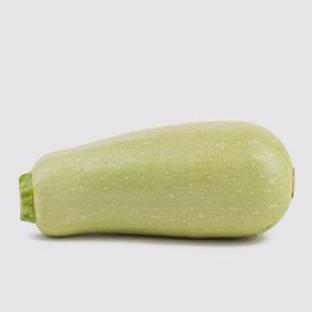Zucchini: (20, 123, 293, 237)
